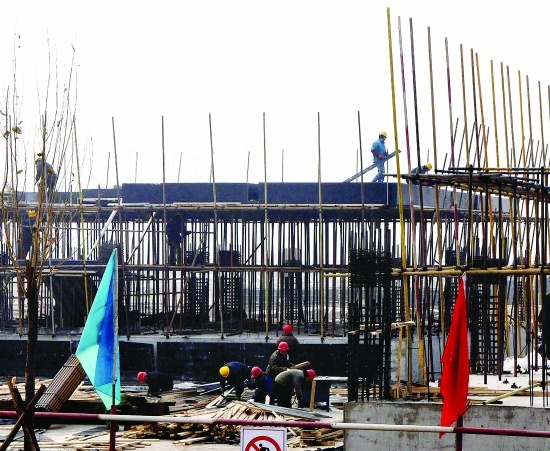red: (276, 339, 289, 356), (136, 369, 149, 384), (250, 366, 262, 380), (303, 368, 315, 382), (281, 324, 293, 335)
yellow: (218, 364, 230, 378), (26, 208, 37, 219), (377, 130, 387, 141), (423, 161, 432, 172)
